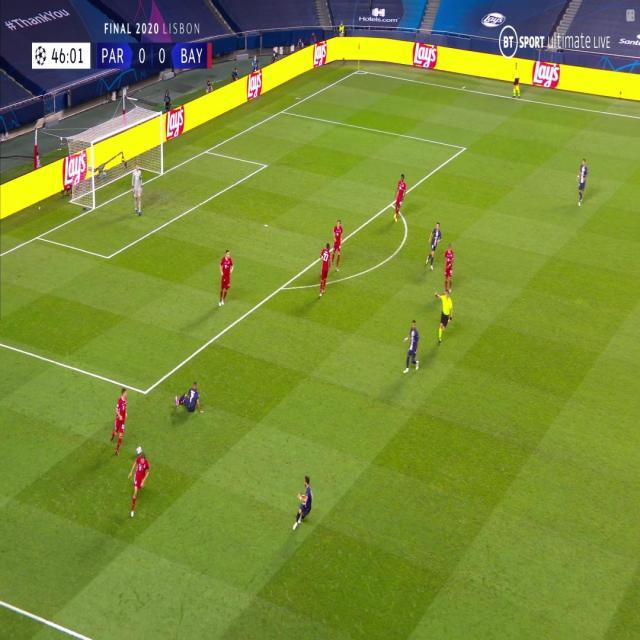ball: (136, 446, 142, 456)
goalkeeper: (132, 163, 144, 218)
player: (127, 445, 150, 519), (109, 386, 130, 458), (292, 474, 314, 530), (400, 318, 421, 375), (173, 381, 203, 418), (218, 248, 234, 308), (424, 222, 443, 270), (391, 173, 408, 224), (317, 242, 332, 299), (331, 219, 345, 274), (443, 243, 456, 294), (576, 158, 589, 209)
referee: (435, 287, 454, 348), (512, 62, 522, 99)
